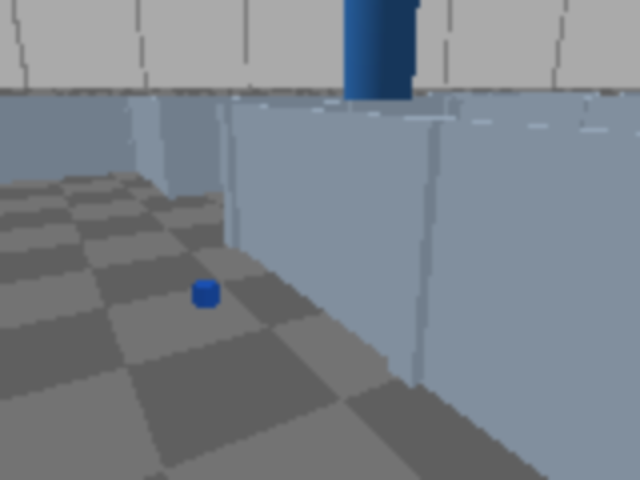puck: (190, 278, 221, 310)
